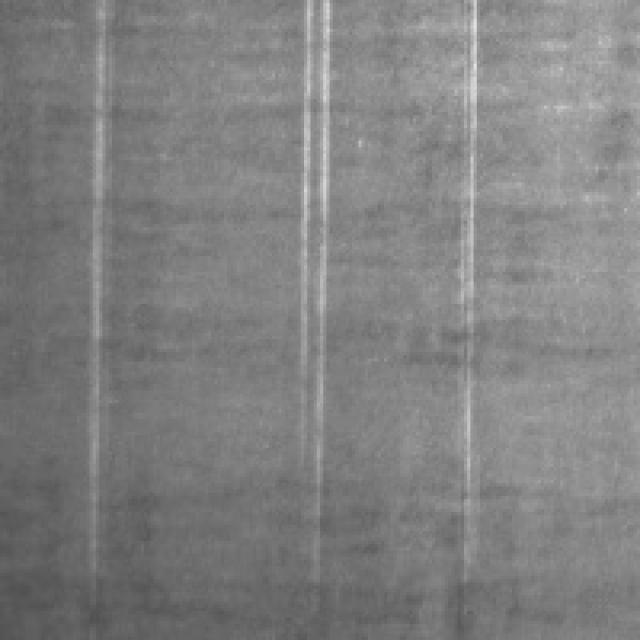scratches: (285, 0, 333, 531), (74, 7, 112, 570), (445, 0, 480, 560)
